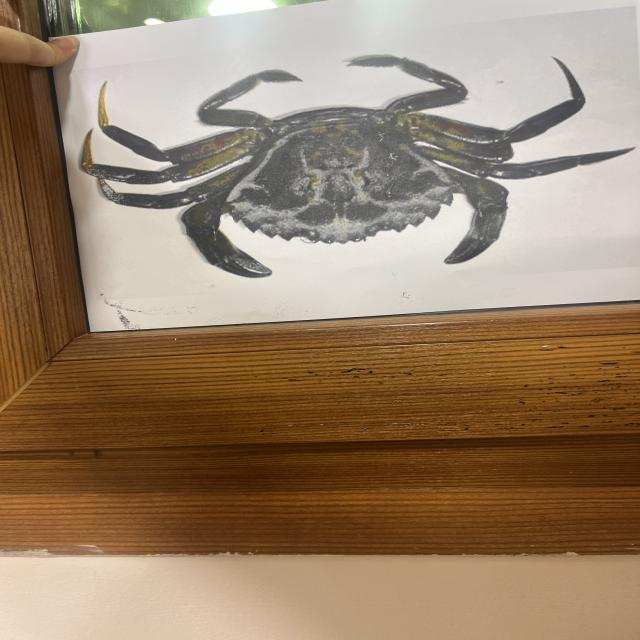European_Green_Crab: (68, 30, 592, 301)
